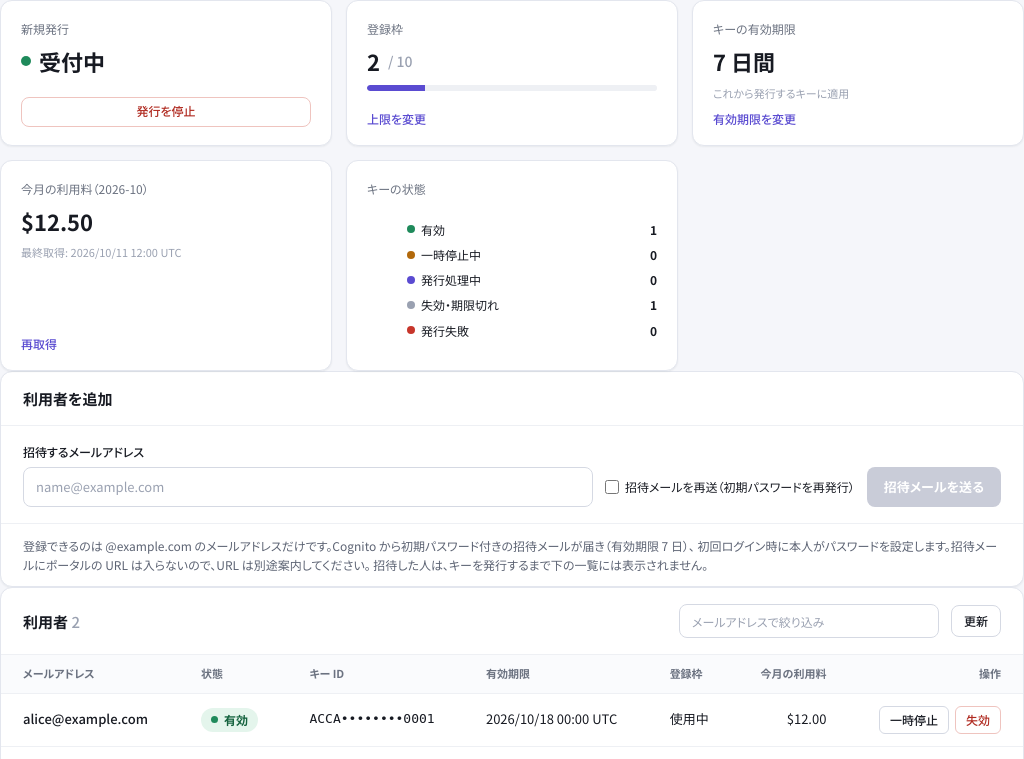
Test: AdminView › filters by email
The width and height of the screenshot is (1024, 759).
Expected: the text "alice@example.com" is shown, top-left (1, 693), bottom-right (189, 746)
Step 1. Type "bob" into the search field labelled "メールアドレスで絞り込み" → (809, 621), box top-left (679, 604), bottom-right (939, 638)
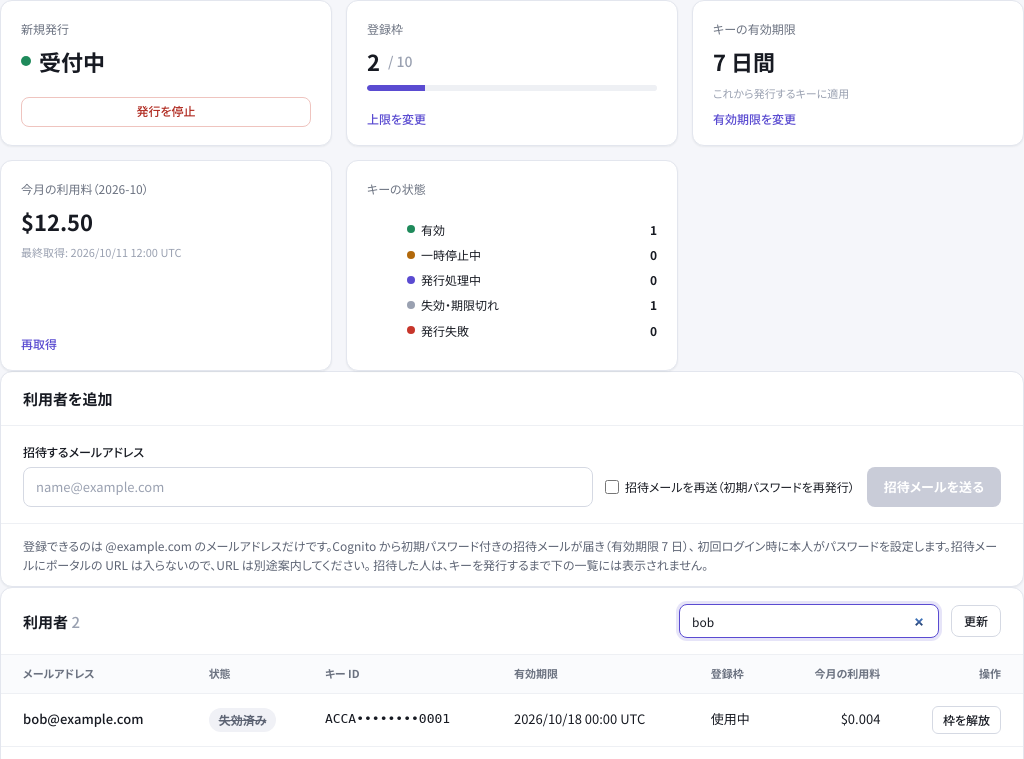
Expected: the text "bob@example.com" is shown, top-left (1, 693), bottom-right (197, 746)
Expected: the text "alice@example.com" is gone
